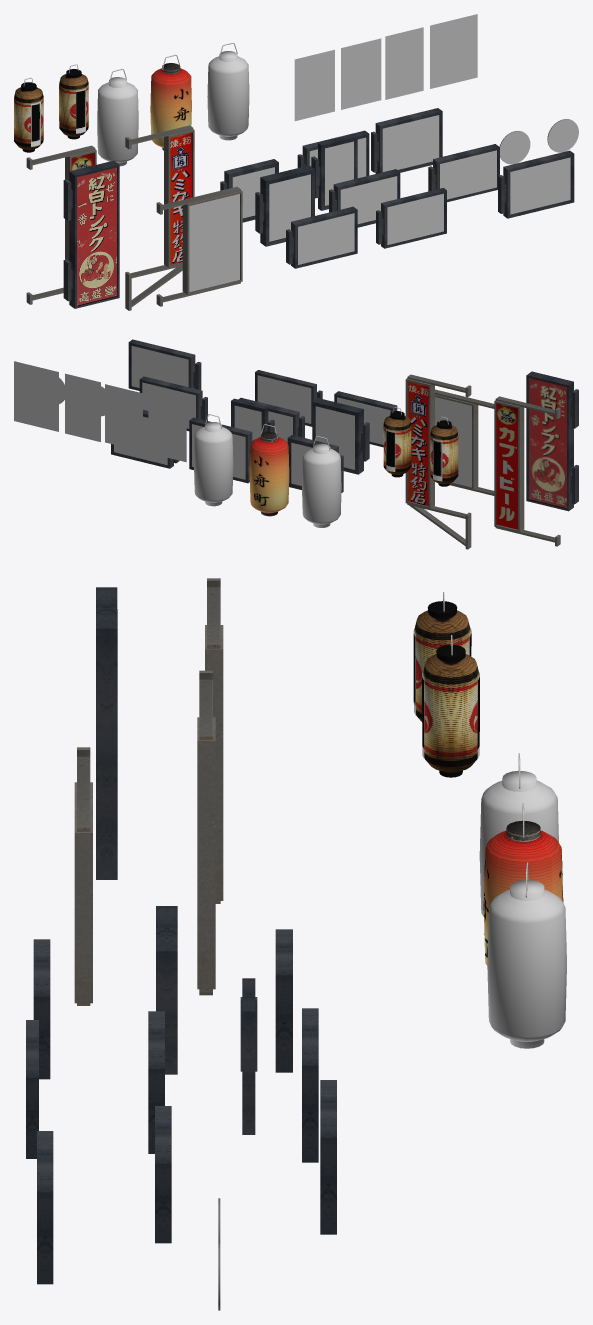
Rendered from SignPoster.FBX.
3 renders of one model, top to bottom at view 1: azimuth 30°, elevation 25°; view 2: azimuth 150°, elevation 25°; view 3: azimuth 270°, elevation 25°, orthographic. The views are drawn at different scales.
Parts seen in each view (by area): view 1: Sign_E, Sign_China001, Sign_China, Sign_B006, Sign_B, Sign_D, Sign_B005, lanterna, Plane005, Sign_B007, lanternc, Sign_B004 (+14 smaller); view 2: Sign_E, Sign_China002, Sign_China, Sign_China001, lanternc, lanternb, lanterna, Plane005, Sign_D, Sign_B006, Plane001, Plane002 (+12 smaller); view 3: lanterna, Sign_E, Linea, Sign_China, Sign_China001, lanternb, Sign_China002, lanternc, Sign_D, Lineb, Sign_B, Sign_B002 (+8 smaller).
Boxes of the visible parts, box(x1,y1,x2,y2) form: Sign_E: box(69, 160, 119, 308); Sign_China001: box(156, 186, 242, 306); Sign_China: box(125, 125, 194, 310); Sign_B006: box(503, 150, 574, 218); Sign_B: box(375, 108, 442, 173); Sign_D: box(260, 165, 314, 246); Sign_B005: box(291, 206, 357, 268); lanterna: box(207, 56, 249, 136); Plane005: box(430, 14, 477, 88); Sign_B007: box(381, 188, 446, 248); lanternc: box(97, 82, 138, 162); Sign_B004: box(433, 144, 499, 202); Sign_E: box(526, 371, 573, 511); Sign_China002: box(494, 396, 560, 546); Sign_China: box(405, 374, 471, 549); Sign_China001: box(435, 389, 494, 495); lanternc: box(302, 448, 341, 524); lanternb: box(249, 436, 289, 512); lanterna: box(194, 427, 233, 502); Plane005: box(14, 361, 58, 431); Sign_D: box(312, 398, 363, 474); Sign_B006: box(128, 339, 195, 390); Plane001: box(148, 394, 186, 462); Plane002: box(105, 384, 142, 451); lanterna: box(487, 889, 566, 1042); Sign_E: box(96, 587, 117, 879); Linea: box(422, 654, 479, 772); Sign_China: box(197, 670, 215, 995); Sign_China001: box(74, 747, 92, 1005); lanternb: box(483, 830, 563, 965); Sign_China002: box(205, 578, 223, 903); lanternc: box(479, 780, 558, 916); Sign_D: box(156, 906, 177, 1074); Lineb: box(413, 610, 471, 722); Sign_B: box(320, 1080, 336, 1234); Sign_B002: box(302, 1008, 318, 1162).
Size of the model in its own units: 6.57 by 2.21 by 2.96.
